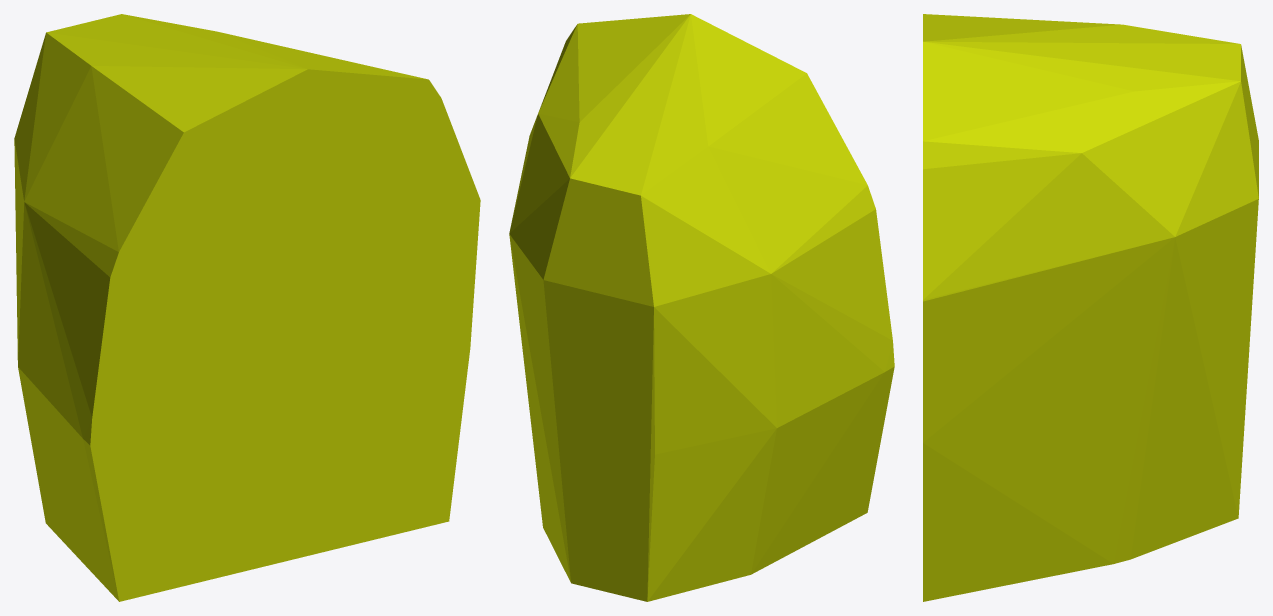
The picture shows the model from 3 angles, left to right: view 1: azimuth 30°, elevation 25°; view 2: azimuth 150°, elevation 25°; view 3: azimuth 270°, elevation 25°; orthographic projection. The views are drawn at different scales.
Bounding box in the file's own units: 2.21 × 2.63 × 1.63.
